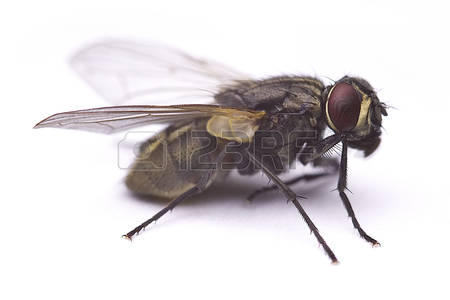fly: (33, 26, 392, 264)
